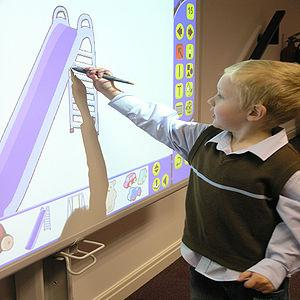person: (86, 60, 300, 300)
